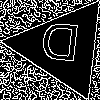D: (37, 22, 82, 71)
